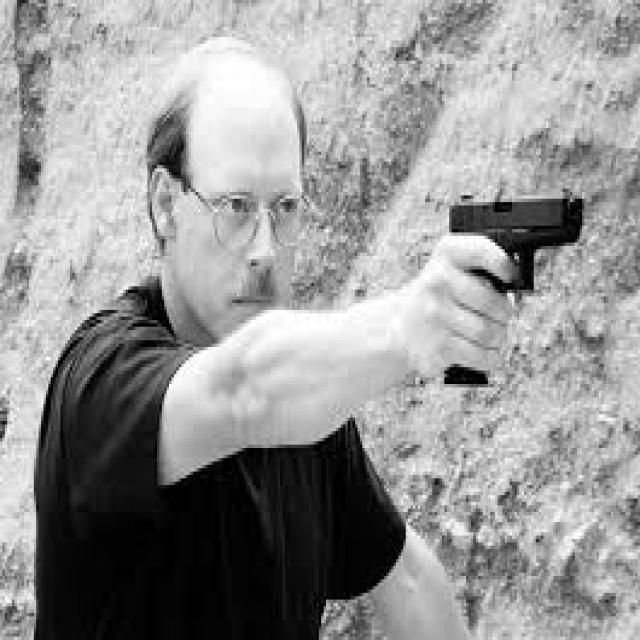weapons: (410, 153, 590, 391)
